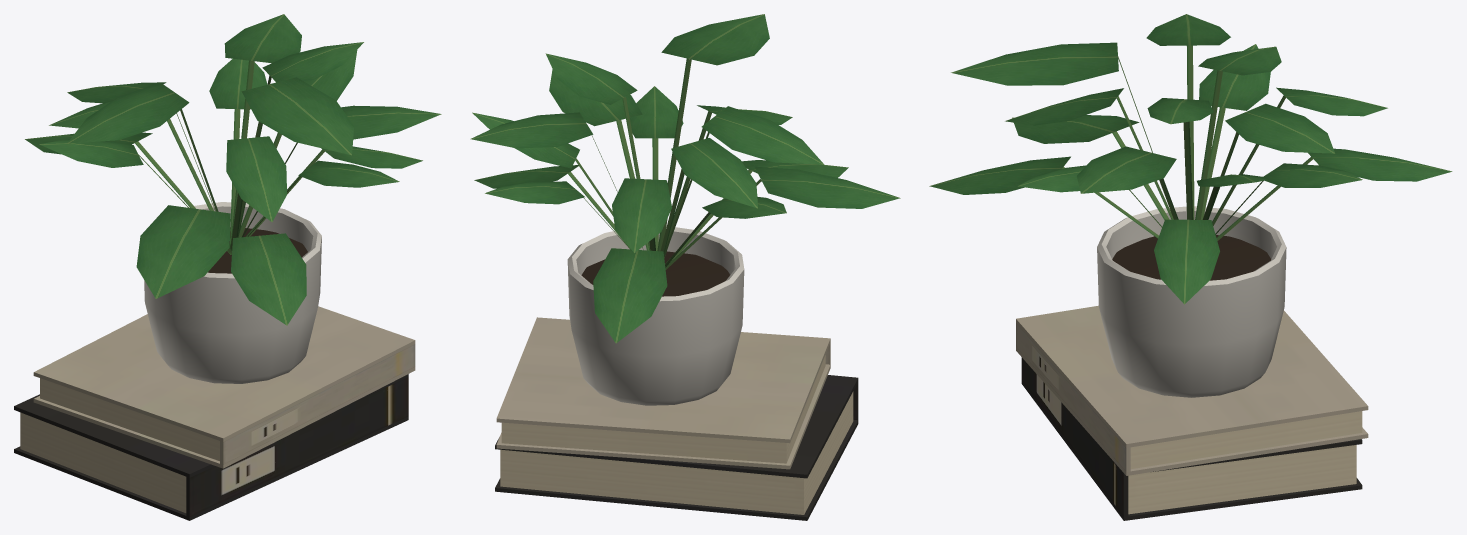
Rendered from decor_a_table_side_plant.gltf.
3 renders of one model, left to right at view 1: azimuth 30°, elevation 25°; view 2: azimuth 150°, elevation 25°; view 3: azimuth 270°, elevation 25°, orthographic. The views are drawn at different scales.
Visible parts, largest first — view 1: DecorATableSidePlant_leaf_NoCollide, DecorATableSidePlant_Book02_Spines_NoCollide, DecorATableSidePlant_Book01_Spines_NoCollide, DecorATableSidePlant_glaze_NoCollide, DecorATableSidePlant_soil_NoCollide; view 2: DecorATableSidePlant_leaf_NoCollide, DecorATableSidePlant_Book02_Spines_NoCollide, DecorATableSidePlant_Book01_Spines_NoCollide, DecorATableSidePlant_glaze_NoCollide, DecorATableSidePlant_soil_NoCollide; view 3: DecorATableSidePlant_leaf_NoCollide, DecorATableSidePlant_Book02_Spines_NoCollide, DecorATableSidePlant_glaze_NoCollide, DecorATableSidePlant_Book01_Spines_NoCollide, DecorATableSidePlant_soil_NoCollide.
Boxes of the visible parts, left/top/right/bottom form: DecorATableSidePlant_leaf_NoCollide: left=25, top=14, right=441, bottom=325; DecorATableSidePlant_Book02_Spines_NoCollide: left=33, top=306, right=415, bottom=468; DecorATableSidePlant_Book01_Spines_NoCollide: left=14, top=374, right=408, bottom=520; DecorATableSidePlant_glaze_NoCollide: left=144, top=202, right=321, bottom=383; DecorATableSidePlant_soil_NoCollide: left=208, top=227, right=307, bottom=273; DecorATableSidePlant_leaf_NoCollide: left=470, top=14, right=900, bottom=343; DecorATableSidePlant_Book02_Spines_NoCollide: left=496, top=317, right=830, bottom=469; DecorATableSidePlant_Book01_Spines_NoCollide: left=495, top=375, right=858, bottom=520; DecorATableSidePlant_glaze_NoCollide: left=567, top=226, right=744, bottom=405; DecorATableSidePlant_soil_NoCollide: left=581, top=251, right=729, bottom=296; DecorATableSidePlant_leaf_NoCollide: left=929, top=14, right=1452, bottom=304; DecorATableSidePlant_Book02_Spines_NoCollide: left=1016, top=305, right=1368, bottom=475; DecorATableSidePlant_glaze_NoCollide: left=1097, top=206, right=1286, bottom=397; DecorATableSidePlant_Book01_Spines_NoCollide: left=1021, top=357, right=1362, bottom=520; DecorATableSidePlant_soil_NoCollide: left=1112, top=235, right=1271, bottom=280.
Bounding box in the file's own units: 0.2925 × 0.2787 × 0.3382.
Materials: 4 (2 with a texture image).
